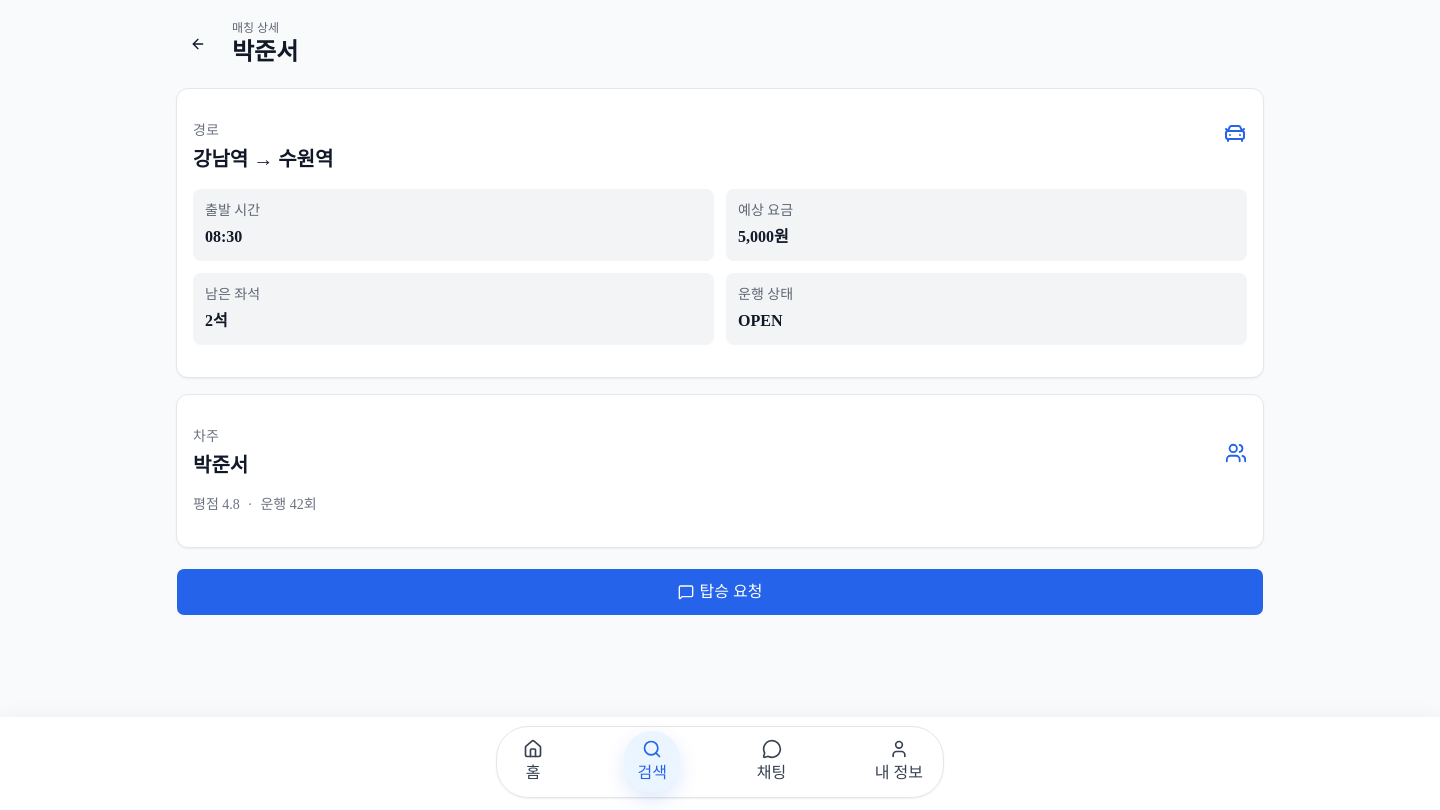
Test: 매칭 상세 화면 › 메시지를 입력하고 탑승 요청을 보낸다
Click the button "탑승 요청" at (720, 592), box [176, 568, 1264, 616]
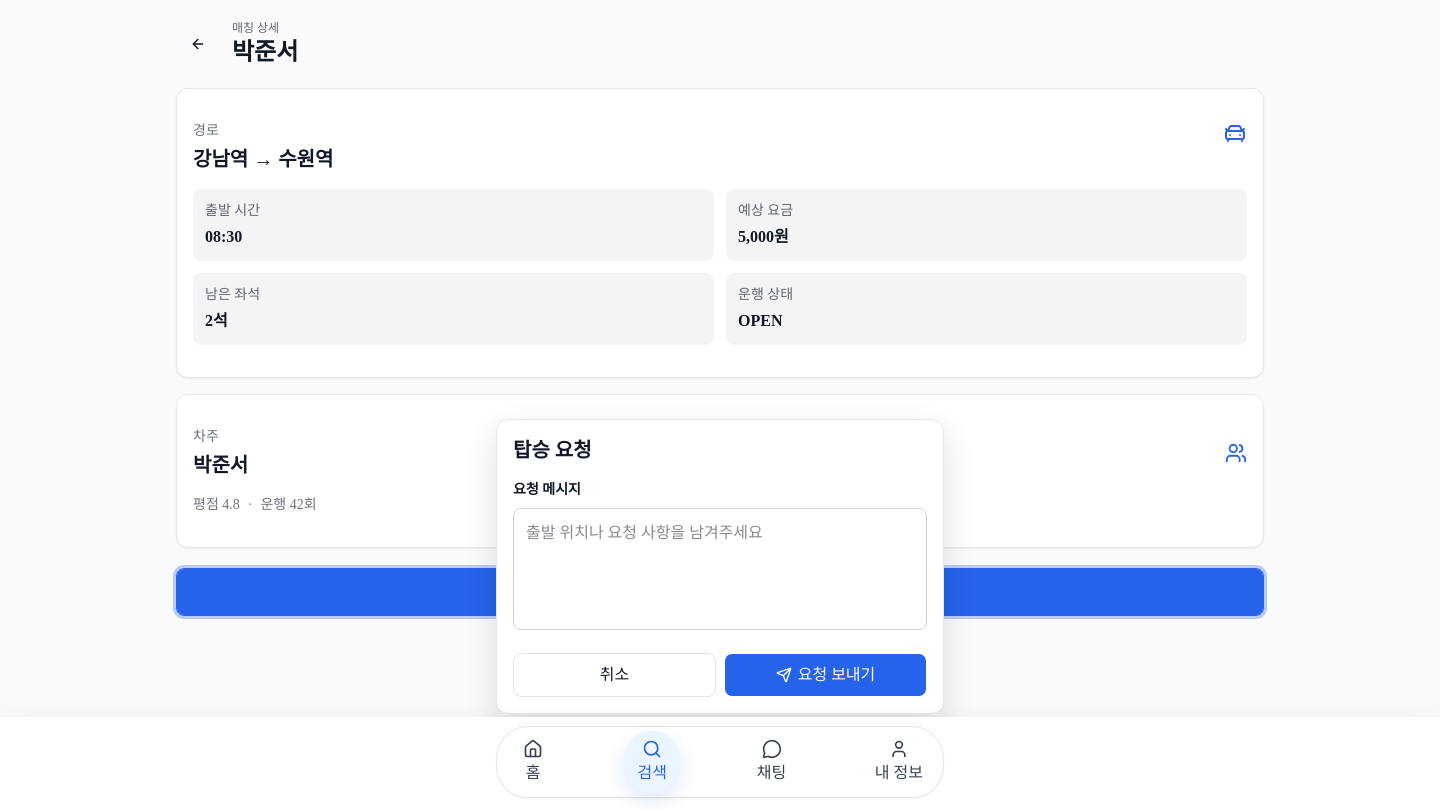
Type "강남역 1번 출구에서 탈게요" into the text box labelled "요청 메시지" at (720, 569), box [513, 508, 927, 630]
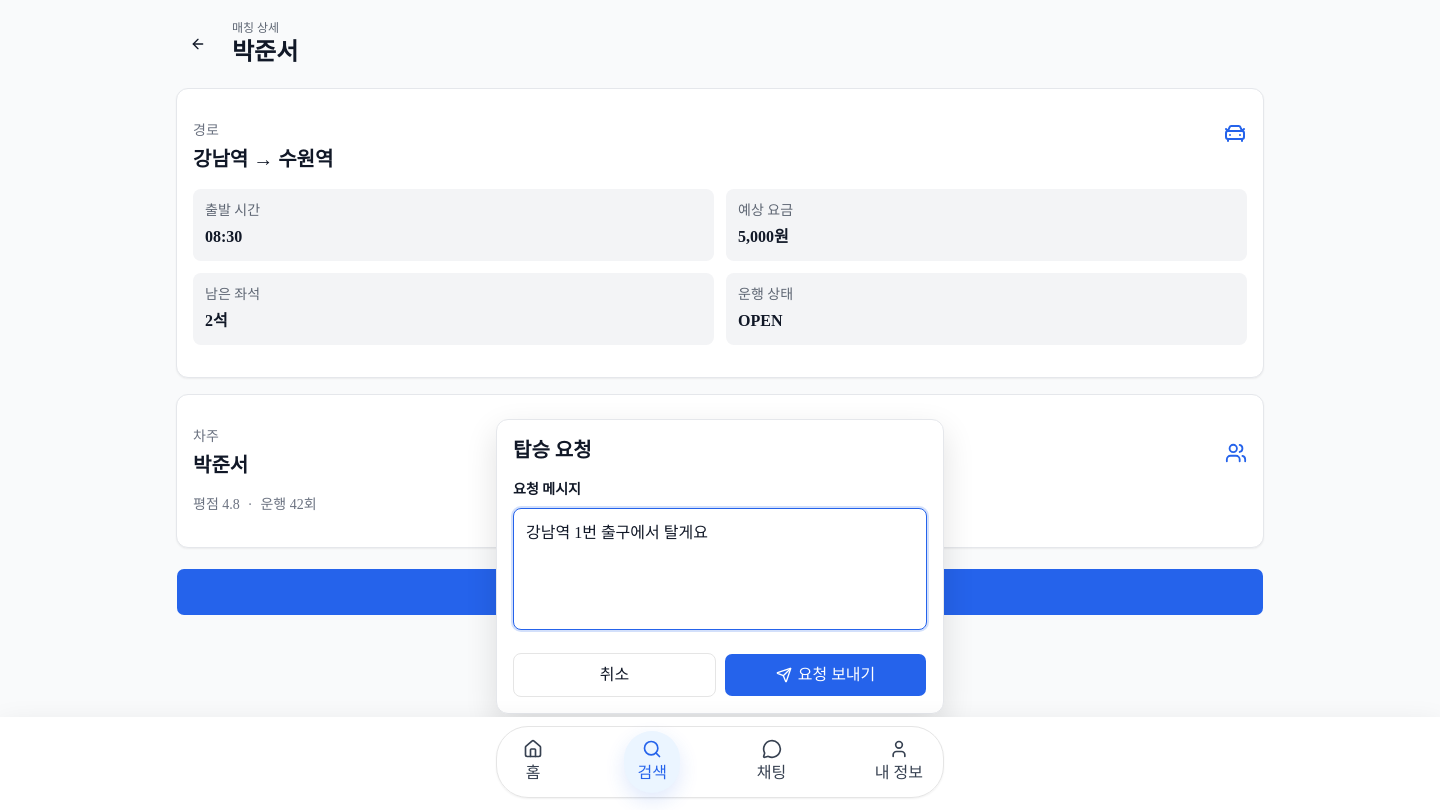
Click the button "요청 보내기" at (826, 675), box [724, 653, 927, 697]
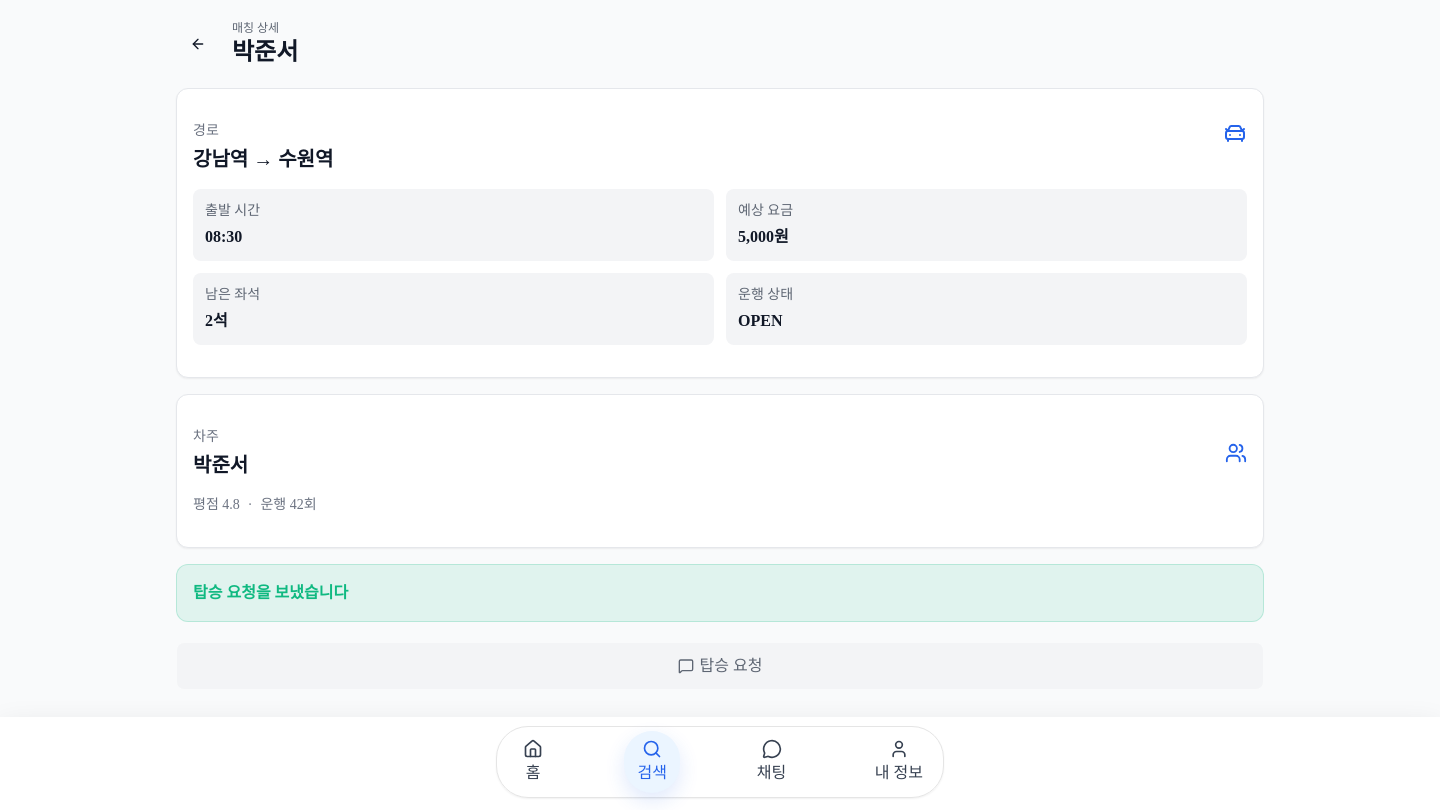
Check: the text "탑승 요청을 보냈습니다" is shown, box [176, 564, 1264, 622]
